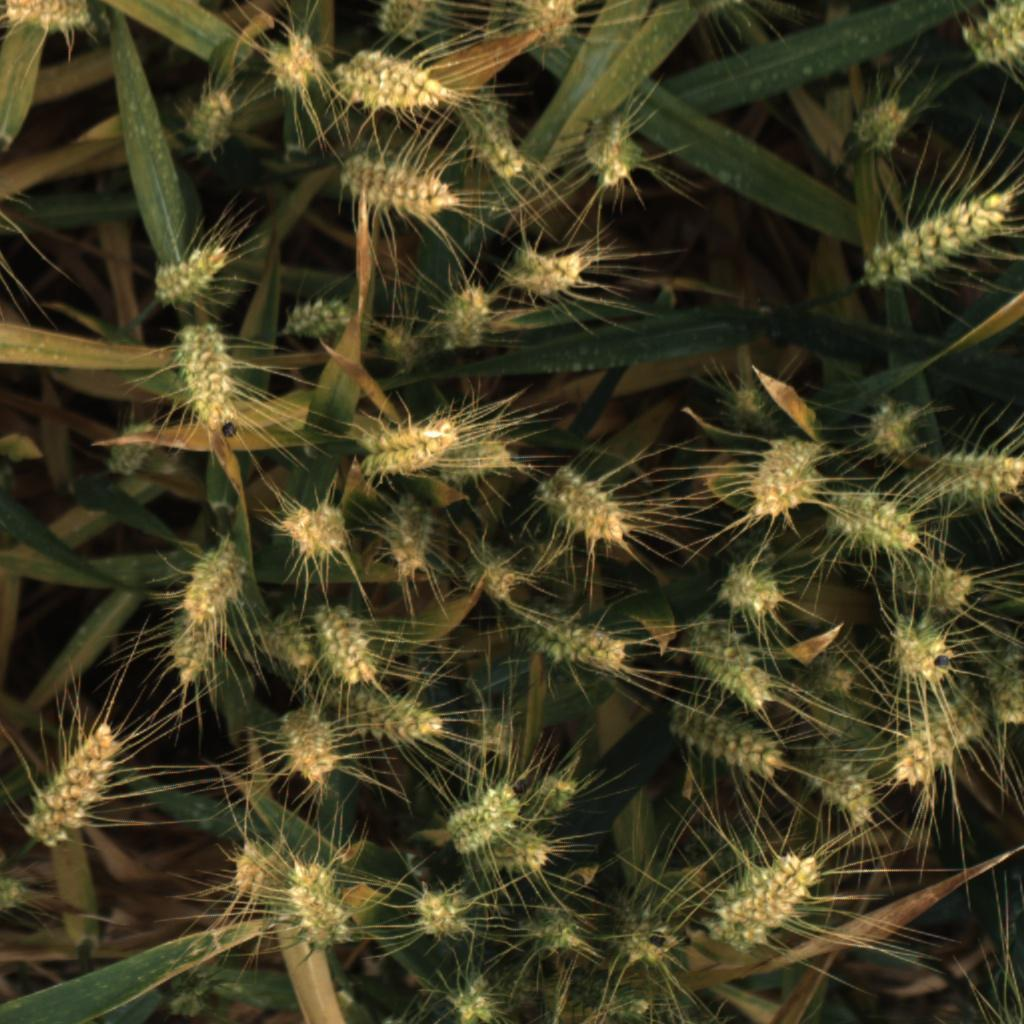0-0: (854, 185, 1024, 300), (891, 657, 996, 792), (697, 853, 828, 958), (21, 718, 121, 843), (457, 80, 551, 193), (681, 611, 777, 712), (667, 704, 788, 782), (333, 42, 450, 121), (339, 150, 461, 225), (172, 324, 250, 439), (537, 458, 635, 547), (510, 606, 632, 673), (282, 850, 355, 952), (351, 411, 458, 480), (964, 606, 1024, 726), (829, 487, 932, 555), (442, 780, 522, 861), (150, 234, 233, 310), (346, 685, 446, 746), (375, 497, 443, 586), (737, 446, 817, 520), (312, 604, 385, 685), (807, 756, 886, 830), (181, 539, 247, 624), (889, 555, 984, 614), (280, 702, 340, 793), (885, 617, 959, 690), (927, 449, 1024, 501), (858, 391, 932, 459), (507, 245, 590, 304), (582, 108, 639, 193), (218, 835, 285, 907), (262, 28, 325, 104), (433, 432, 523, 485), (271, 501, 349, 562), (958, 0, 1024, 72), (254, 603, 317, 676), (279, 288, 361, 344), (179, 86, 241, 160), (709, 377, 788, 435), (845, 91, 912, 159), (439, 282, 501, 355), (456, 539, 525, 603), (718, 560, 789, 622), (403, 883, 472, 943), (610, 910, 680, 968), (483, 825, 559, 876), (3, 0, 95, 40), (515, 904, 584, 957), (577, 978, 656, 1024), (169, 611, 212, 692), (104, 419, 158, 483), (462, 709, 526, 763), (372, 320, 430, 377), (514, 0, 582, 46), (439, 971, 498, 1024), (803, 657, 868, 704), (379, 0, 461, 35), (525, 768, 580, 818), (0, 872, 33, 916), (685, 0, 748, 20)
